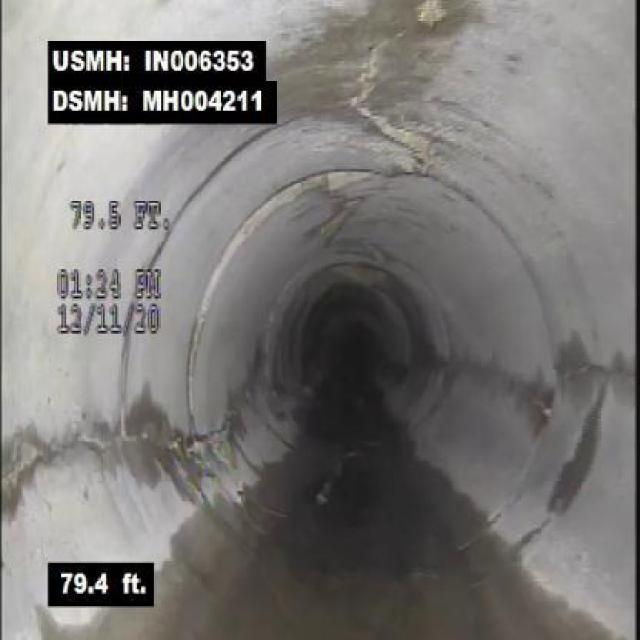Buckling: (340, 66, 442, 171)
Crack: (0, 415, 120, 523), (149, 408, 242, 458), (562, 356, 632, 386), (406, 0, 454, 29)
Joint offset: (235, 172, 320, 235), (197, 243, 241, 317)
